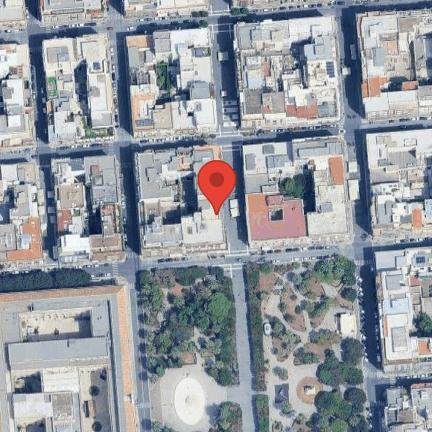area_open: (264, 266, 353, 428), (152, 369, 233, 428)
built: (2, 288, 135, 430), (245, 142, 349, 249), (239, 18, 338, 127), (136, 148, 224, 251), (127, 33, 213, 135), (44, 38, 113, 144), (56, 159, 127, 261), (361, 14, 428, 116), (369, 132, 430, 238), (378, 250, 429, 373), (1, 162, 43, 269), (3, 47, 34, 150), (388, 385, 429, 431), (40, 2, 108, 24), (232, 0, 332, 13), (123, 1, 204, 15), (3, 2, 27, 25)
vegetation_high: (140, 272, 235, 385), (315, 341, 365, 424), (246, 262, 272, 393), (0, 268, 90, 291), (321, 262, 353, 304), (214, 404, 241, 429), (256, 398, 268, 430)
